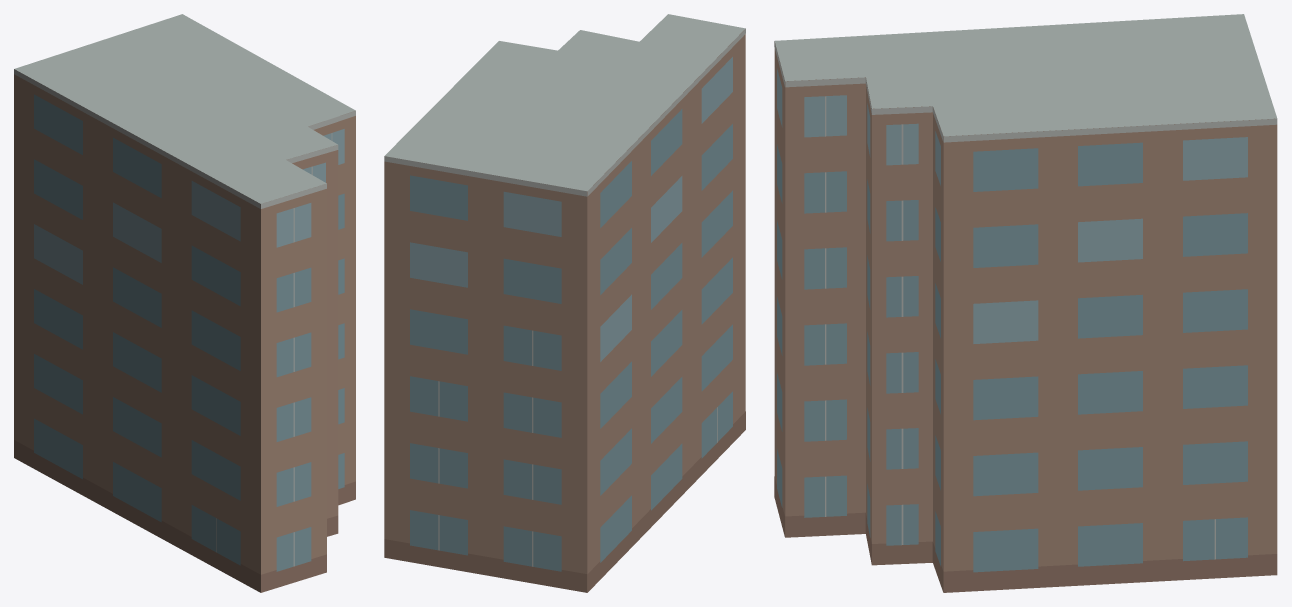
File: survey-upis-32576133.glb
3 renders of one model, left to right at view 1: azimuth 30°, elevation 25°; view 2: azimuth 150°, elevation 25°; view 3: azimuth 270°, elevation 25°, orthographic. The views are drawn at different scales.
Visible parts, largest first — view 1: survey-upis-32576133.tmp; view 2: survey-upis-32576133.tmp; view 3: survey-upis-32576133.tmp.
Boxes of the visible parts, <box> form: survey-upis-32576133.tmp: <box>14,14,355,592</box>; survey-upis-32576133.tmp: <box>384,14,745,592</box>; survey-upis-32576133.tmp: <box>774,14,1277,592</box>.
Size of the model in its own units: 10.45 by 18.15 by 18.13.
